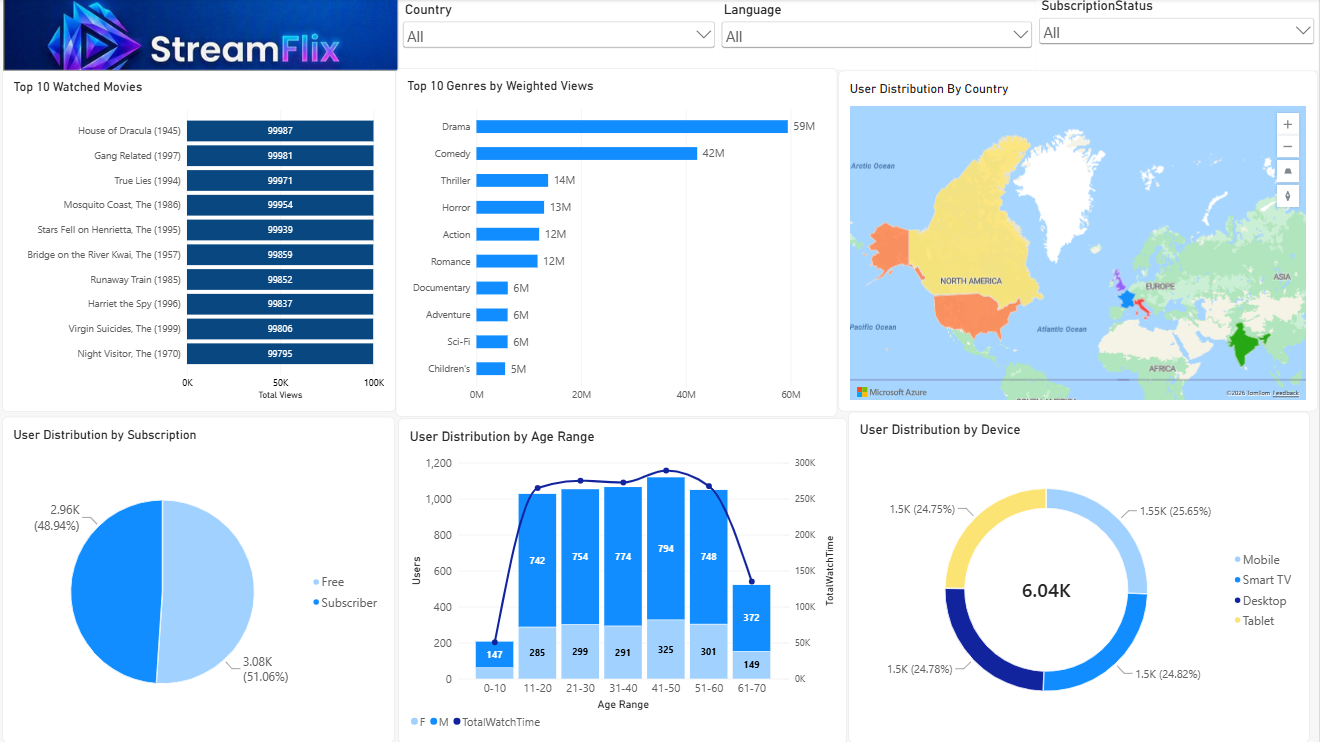

The page's visual inventory and layout, read from the dashboard file:
{"tool":"powerbi","page":{"name":"Page 1","canvas":[1920,1080],"ordinal":0},"visuals":[{"type":"pieChart","title":"User Distribution by Subscription","fields":{"Category":["Users.SubscriptionStatus"],"Y":["CountNonNull(Users.UserID)"]},"box":[15.1,606,569.2,471.8],"z":1000},{"type":"donutChart","fields":{"Category":["Users.Device"],"Y":["CountNonNull(Users.UserID)"]},"box":[1239.6,599,667.8,479.6],"z":2000},{"type":"clusteredBarChart","title":"Top 10 Watched Movies","fields":{"Category":["Movies.Movie Display Name"],"Y":["Sum(Movies.Total_Views)"]},"box":[14.5,103.2,570,495.8],"z":3000},{"type":"slicer","fields":{"Values":["Movies.Country"]},"box":[590,5.3,461.9,98.8],"z":4000},{"type":"slicer","fields":{"Values":["Movies.Language"]},"box":[1051.9,5.3,459.2,98.8],"z":5000},{"type":"lineStackedColumnComboChart","title":"User Distribution by Age Range","fields":{"Category":["Users.Age Range"],"Series":["Users.Gender"],"Y":["CountNonNull(Users.UserID)"],"Y2":["Sum(Users.TotalWatchTime)"]},"box":[588.1,608,649.2,471.8],"z":6000},{"type":"slicer","fields":{"Values":["Users.SubscriptionStatus"]},"box":[1511,0,408.5,104.1],"z":7000},{"type":"azureMap","title":"User Distribution By Country","fields":{"Category":["Users.Country"],"location":["Users.Country"]},"box":[1225.4,104.1,694.1,493.9],"z":8000},{"type":"image","box":[16,0,571.3,104.1],"z":9000},{"type":"clusteredBarChart","title":"Top 10 Genres by Weighted Views","fields":{"Category":["MoviesGenres.Genre"],"Y":["Sum(MoviesGenres.Weighted Views)"]},"box":[584.5,101.3,638.8,504.9],"z":9001}]}

Visuals, with their boxes in screenshot pixels (x1, y1, x2, y2), scaled from the page's 1920x1080 canvas onto the 1320x742 screenshot:
"User Distribution by Subscription" pieChart: {"left": 10, "top": 416, "right": 402, "bottom": 740}
donutChart - Users.Device x CountNonNull(Users.UserID): {"left": 852, "top": 412, "right": 1311, "bottom": 741}
"Top 10 Watched Movies" clusteredBarChart: {"left": 10, "top": 71, "right": 402, "bottom": 412}
slicer - Movies.Country: {"left": 406, "top": 4, "right": 723, "bottom": 72}
slicer - Movies.Language: {"left": 723, "top": 4, "right": 1039, "bottom": 72}
"User Distribution by Age Range" lineStackedColumnComboChart: {"left": 404, "top": 418, "right": 851, "bottom": 741}
slicer - Users.SubscriptionStatus: {"left": 1039, "top": 0, "right": 1319, "bottom": 72}
"User Distribution By Country" azureMap: {"left": 842, "top": 72, "right": 1319, "bottom": 411}
image: {"left": 11, "top": 0, "right": 404, "bottom": 72}
"Top 10 Genres by Weighted Views" clusteredBarChart: {"left": 402, "top": 70, "right": 841, "bottom": 416}
